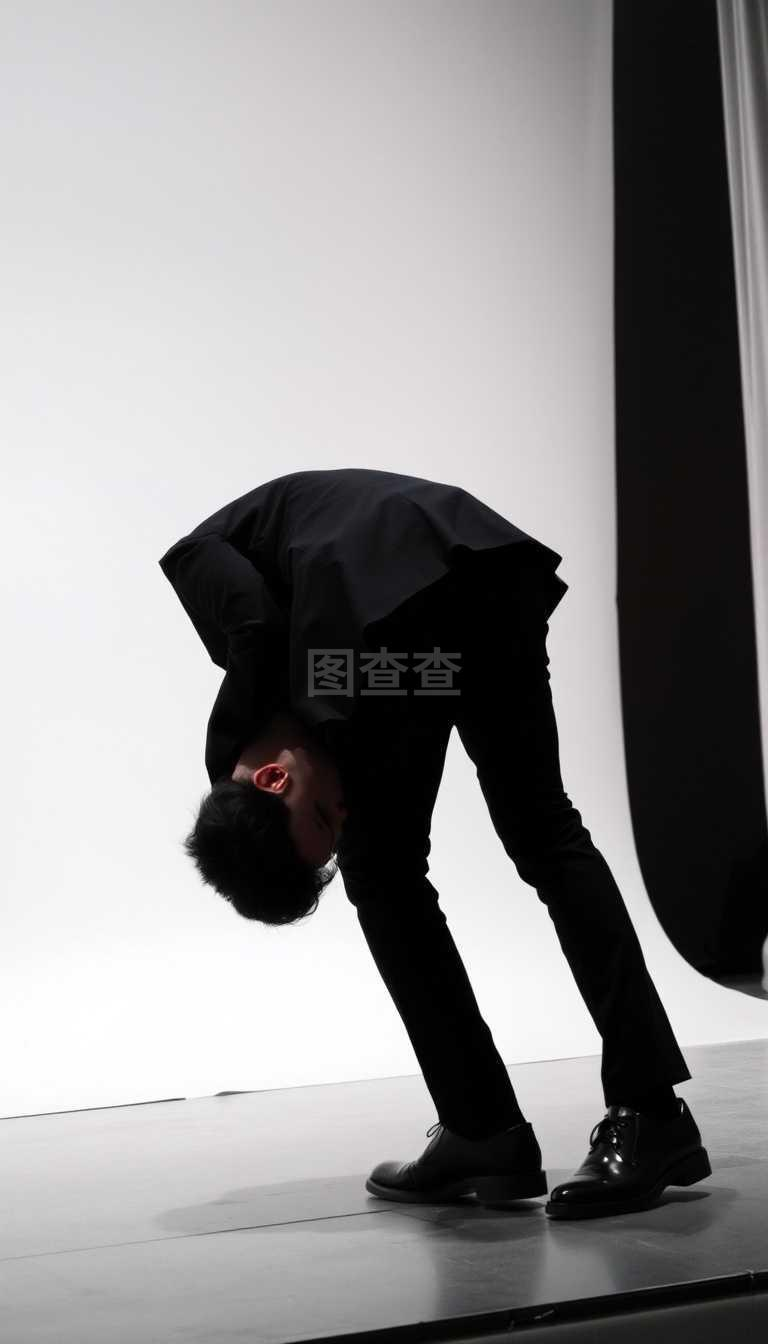bending: (121, 434, 735, 1254)
